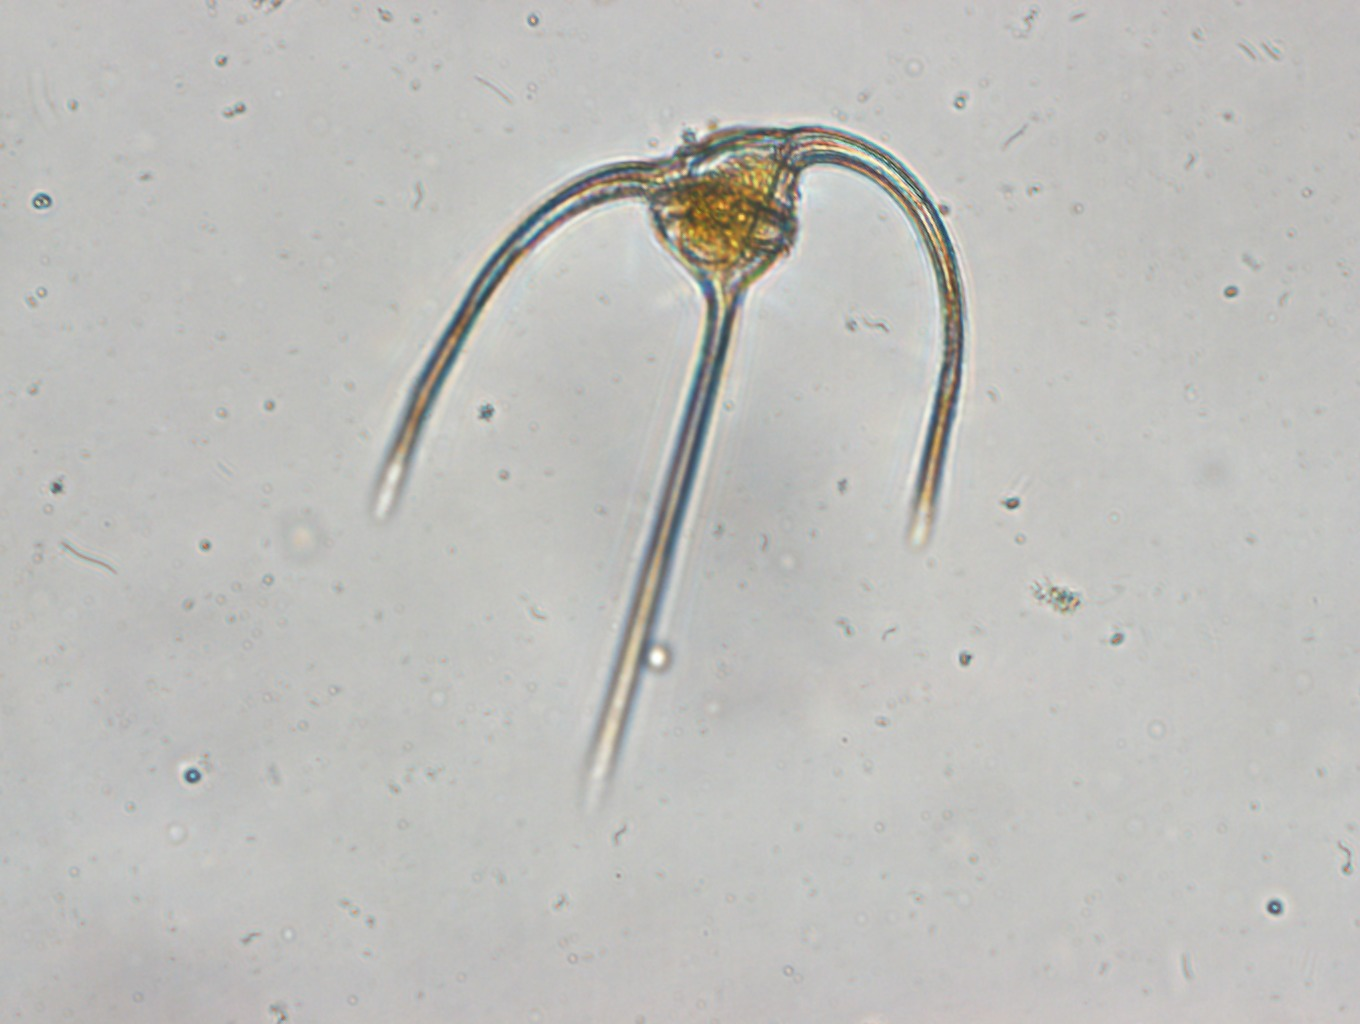ceratium trichoceros: (380, 119, 973, 807)
